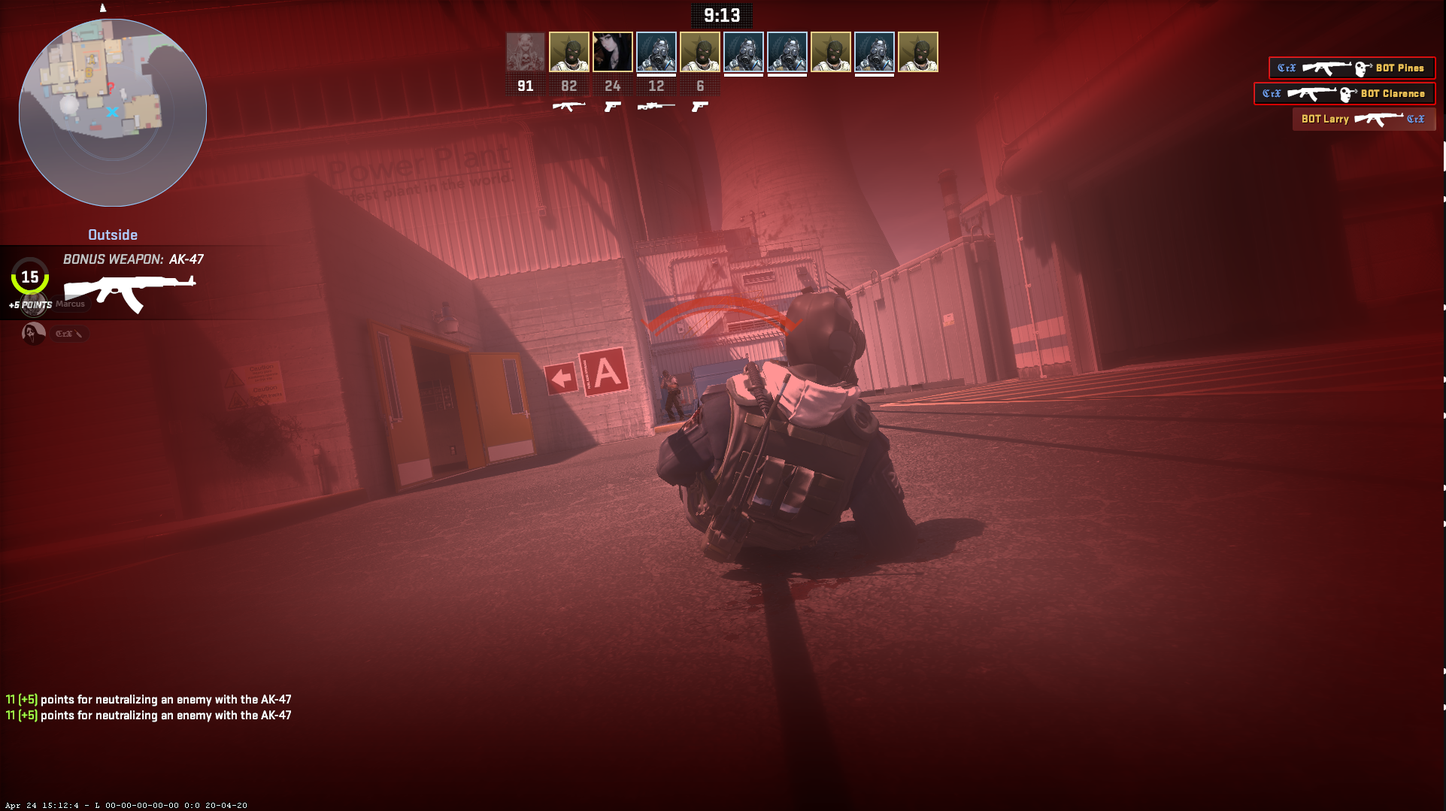T: (661, 370, 686, 422)
